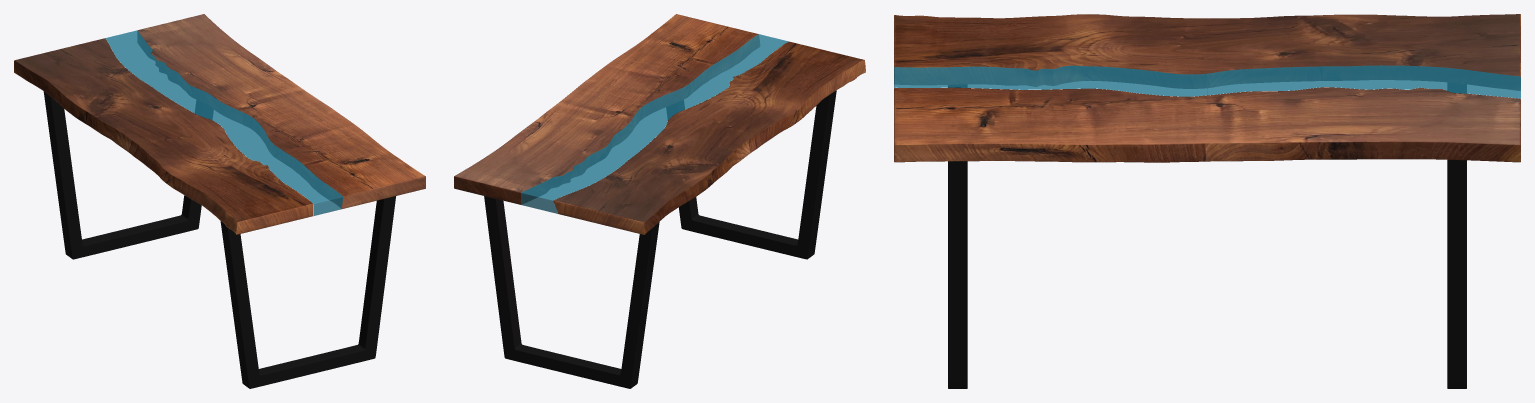
The model's file is kitchen_table.glb.
3 renders of one model, left to right at view 1: azimuth 30°, elevation 25°; view 2: azimuth 150°, elevation 25°; view 3: azimuth 270°, elevation 25°, orthographic. The views are drawn at different scales.
Parts seen in each view (by area): view 1: Cube.001, Legs, Cube; view 2: Cube.001, Legs, Cube; view 3: Cube.001, Cube, Legs.
Part boxes in pixels (x1,y1,x2,y2): Cube.001: (14,14,425,234); Legs: (43,91,395,388); Cube: (105,30,343,216); Cube.001: (454,14,865,234); Legs: (484,90,836,388); Cube: (521,34,788,213); Cube.001: (894,14,1520,162); Cube: (894,65,1520,98); Legs: (948,83,1466,388).
Size of the model in its own units: 79.2 by 75.04 by 160.
3 materials, 1 textured.
